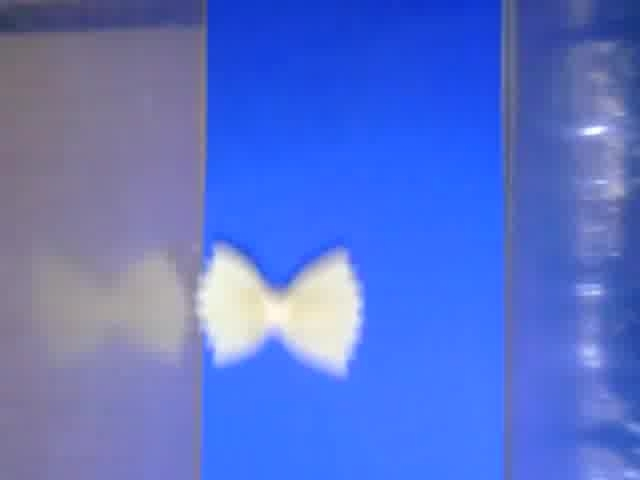farfalle: (198, 239, 361, 380)
